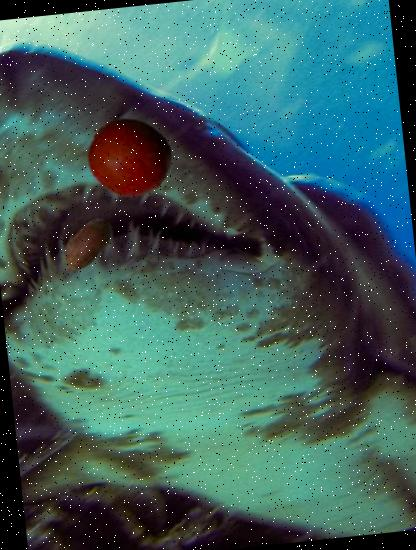Nectarine: (84, 112, 174, 202)
Nut: (52, 210, 122, 282)
